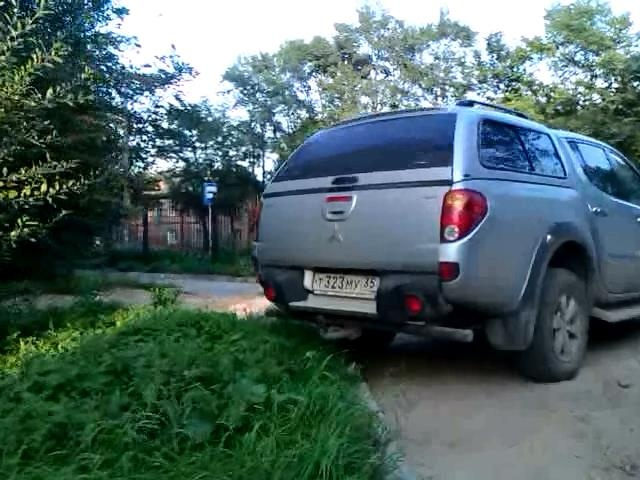car license plate: (308, 266, 383, 301)
